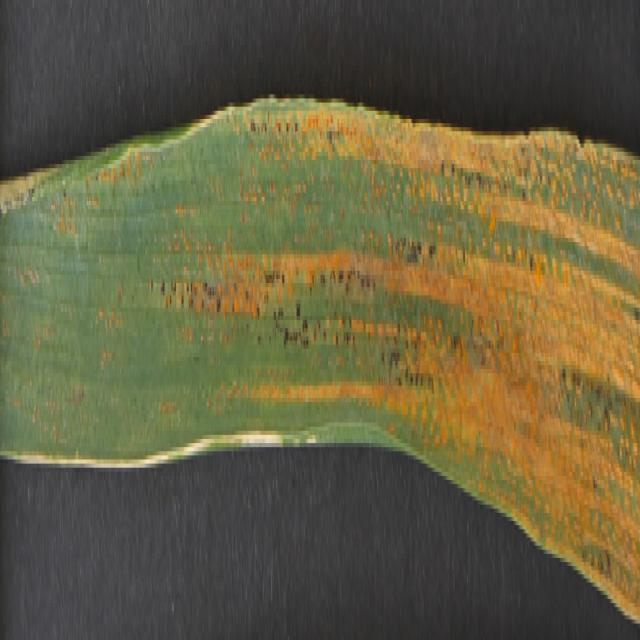leaf rust: (156, 86, 640, 607)
